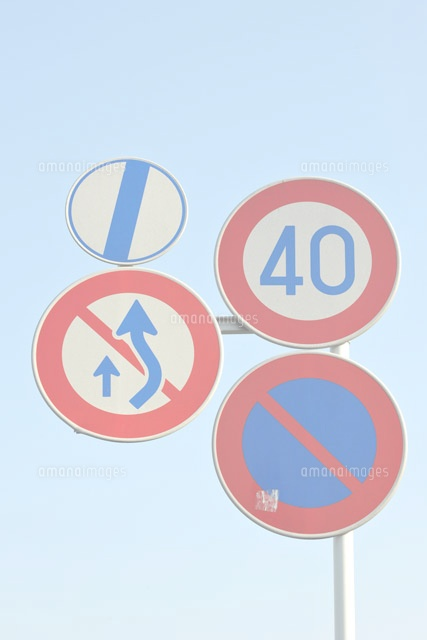Prohibition_sign: (5, 256, 240, 450), (212, 343, 401, 583)
